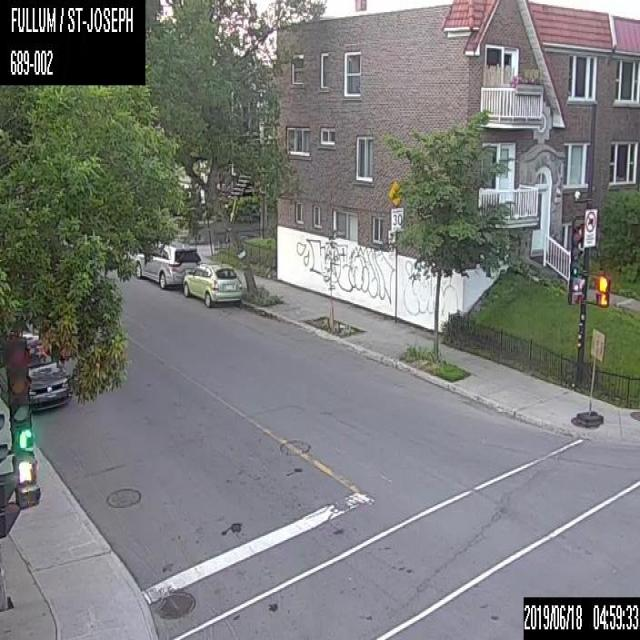construction: (570, 327, 605, 427)
vehicle: (0, 331, 71, 413), (132, 242, 202, 289), (182, 262, 242, 306)
